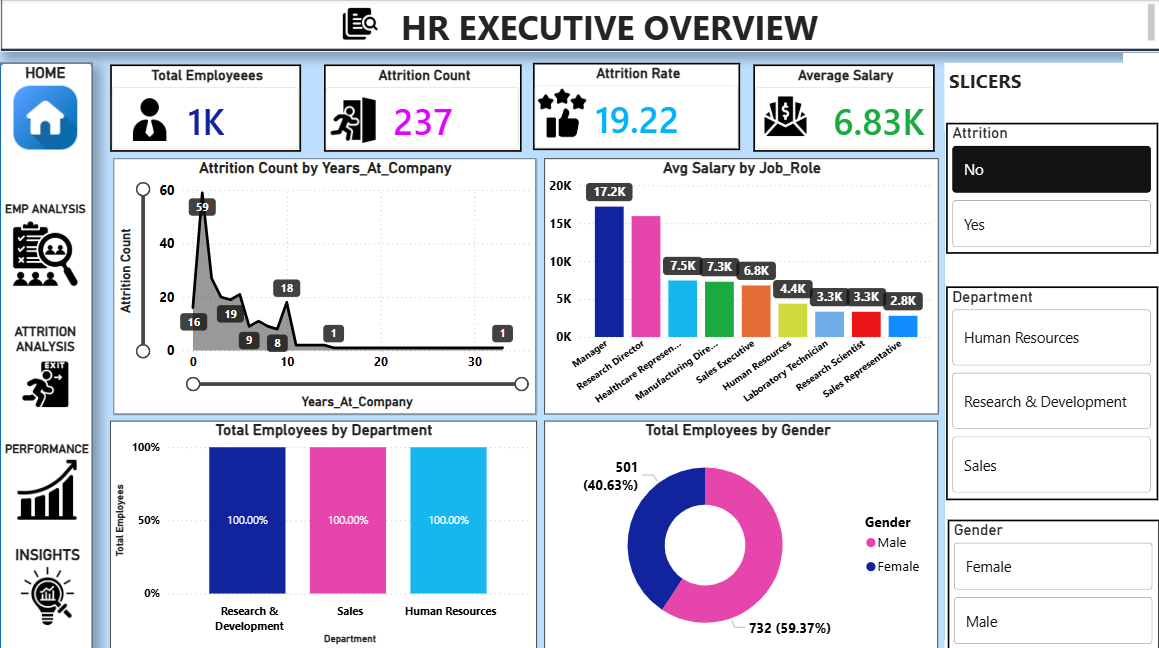

Layout of this report page (visuals, bound fields, positions):
{"tool":"powerbi","page":{"name":"HR_Executive_Overview","canvas":[1280,720],"ordinal":0},"visuals":[{"type":"shape","box":[0,0,1280.4,58.9],"z":0},{"type":"textbox","box":[0,0,1280,58.2],"z":1000},{"type":"cardVisual","title":"Total Employeees","fields":{"Data":["Cleaned_HR_Data.Total Employees"]},"box":[121,73.9,210.6,96.3],"z":2000},{"type":"cardVisual","title":"Attrition Count","fields":{"Data":["Cleaned_HR_Data.Attrition Count"]},"box":[357.2,73.2,217.9,96.4],"z":3000},{"type":"cardVisual","title":"Attrition Rate","fields":{"Data":["Cleaned_HR_Data.Attrition Rate"]},"box":[587.6,71.4,228.6,96.4],"z":4000},{"type":"cardVisual","title":"Average Salary","fields":{"Data":["Cleaned_HR_Data.Avg Salary"]},"box":[830.4,73.2,200,96.4],"z":5000},{"type":"lineChart","fields":{"Category":["Cleaned_HR_Data.Years_At_Company"],"Y":["Cleaned_HR_Data.Attrition Count"]},"box":[125,176.8,466.1,282.2],"z":6000},{"type":"donutChart","fields":{"Category":["Cleaned_HR_Data.Gender"],"Y":["Cleaned_HR_Data.Total Employees"]},"box":[600,466,434,253.2],"z":7000},{"type":"hundredPercentStackedColumnChart","fields":{"Category":["Cleaned_HR_Data.Department"],"Y":["Cleaned_HR_Data.Total Employees"]},"box":[121,466,470.5,253.2],"z":8000},{"type":"textbox","box":[0,71.4,101.8,648.3],"z":9000},{"type":"shape","box":[0,71.4,101.8,650.1],"z":10000},{"type":"shape","box":[1041.8,136.7,237.5,580.2],"z":11000},{"type":"textbox","box":[1041.8,71.7,237.5,647.5],"z":12000},{"type":"advancedSlicerVisual","fields":{"Values":["Cleaned_HR_Data.Attrition"]},"box":[1043,137.5,234,144.7],"z":13000},{"type":"advancedSlicerVisual","fields":{"Values":["Cleaned_HR_Data.Department"]},"box":[1043,317.9,234,235.7],"z":14000},{"type":"advancedSlicerVisual","fields":{"Values":["Cleaned_HR_Data.Gender"]},"box":[1044.8,575.1,234,144.7],"z":15000},{"type":"clusteredColumnChart","fields":{"Category":["Cleaned_HR_Data.Job_Role"],"Y":["Cleaned_HR_Data.Avg Salary"]},"box":[600.4,177,434.6,282.3],"z":16000},{"type":"image","title":"HOME","box":[0,73.5,100,93.9],"z":17000},{"type":"image","title":"ATTRITION ANALYSIS","box":[0,359.2,100,95.9],"z":18000},{"type":"image","title":"EMP ANALYSIS","box":[0,224.5,100,93.9],"z":19000},{"type":"image","title":"PERFORMANCE","box":[2,489.8,100,85.7],"z":20000},{"type":"image","box":[137.5,107.2,55.4,53.6],"z":21000},{"type":"image","box":[357.2,100,64.3,69.7],"z":22000},{"type":"image","box":[587.6,100,64.3,53.6],"z":23000},{"type":"image","box":[830.4,107.2,71.4,46.4],"z":24000},{"type":"image","title":"INSIGHTS","box":[4.1,604.1,98,87.8],"z":25000},{"type":"image","box":[371.5,7.1,50,42.9],"z":25001}]}

Visuals, with their boxes in screenshot pixels (x1, y1, x2, y2), scaled from the page's 1280x720 canvas onto the 1159x648 screenshot:
shape: [left=0, top=0, right=1158, bottom=53]
textbox: [left=0, top=0, right=1158, bottom=52]
"Total Employeees" cardVisual: [left=110, top=67, right=300, bottom=153]
"Attrition Count" cardVisual: [left=323, top=66, right=521, bottom=153]
"Attrition Rate" cardVisual: [left=532, top=64, right=739, bottom=151]
"Average Salary" cardVisual: [left=752, top=66, right=933, bottom=153]
lineChart - Cleaned_HR_Data.Years_At_Company x Cleaned_HR_Data.Attrition Count: [left=113, top=159, right=535, bottom=413]
donutChart - Cleaned_HR_Data.Gender x Cleaned_HR_Data.Total Employees: [left=543, top=419, right=936, bottom=647]
hundredPercentStackedColumnChart - Cleaned_HR_Data.Department x Cleaned_HR_Data.Total Employees: [left=110, top=419, right=536, bottom=647]
textbox: [left=0, top=64, right=92, bottom=647]
shape: [left=0, top=64, right=92, bottom=647]
shape: [left=943, top=123, right=1158, bottom=645]
textbox: [left=943, top=65, right=1158, bottom=647]
advancedSlicerVisual - Cleaned_HR_Data.Attrition: [left=944, top=124, right=1156, bottom=254]
advancedSlicerVisual - Cleaned_HR_Data.Department: [left=944, top=286, right=1156, bottom=498]
advancedSlicerVisual - Cleaned_HR_Data.Gender: [left=946, top=518, right=1158, bottom=647]
clusteredColumnChart - Cleaned_HR_Data.Job_Role x Cleaned_HR_Data.Avg Salary: [left=544, top=159, right=937, bottom=413]
"HOME" image: [left=0, top=66, right=91, bottom=151]
"ATTRITION ANALYSIS" image: [left=0, top=323, right=91, bottom=410]
"EMP ANALYSIS" image: [left=0, top=202, right=91, bottom=287]
"PERFORMANCE" image: [left=2, top=441, right=92, bottom=518]
image: [left=125, top=96, right=175, bottom=145]
image: [left=323, top=90, right=382, bottom=153]
image: [left=532, top=90, right=590, bottom=138]
image: [left=752, top=96, right=817, bottom=138]
"INSIGHTS" image: [left=4, top=544, right=92, bottom=623]
image: [left=336, top=6, right=382, bottom=45]
